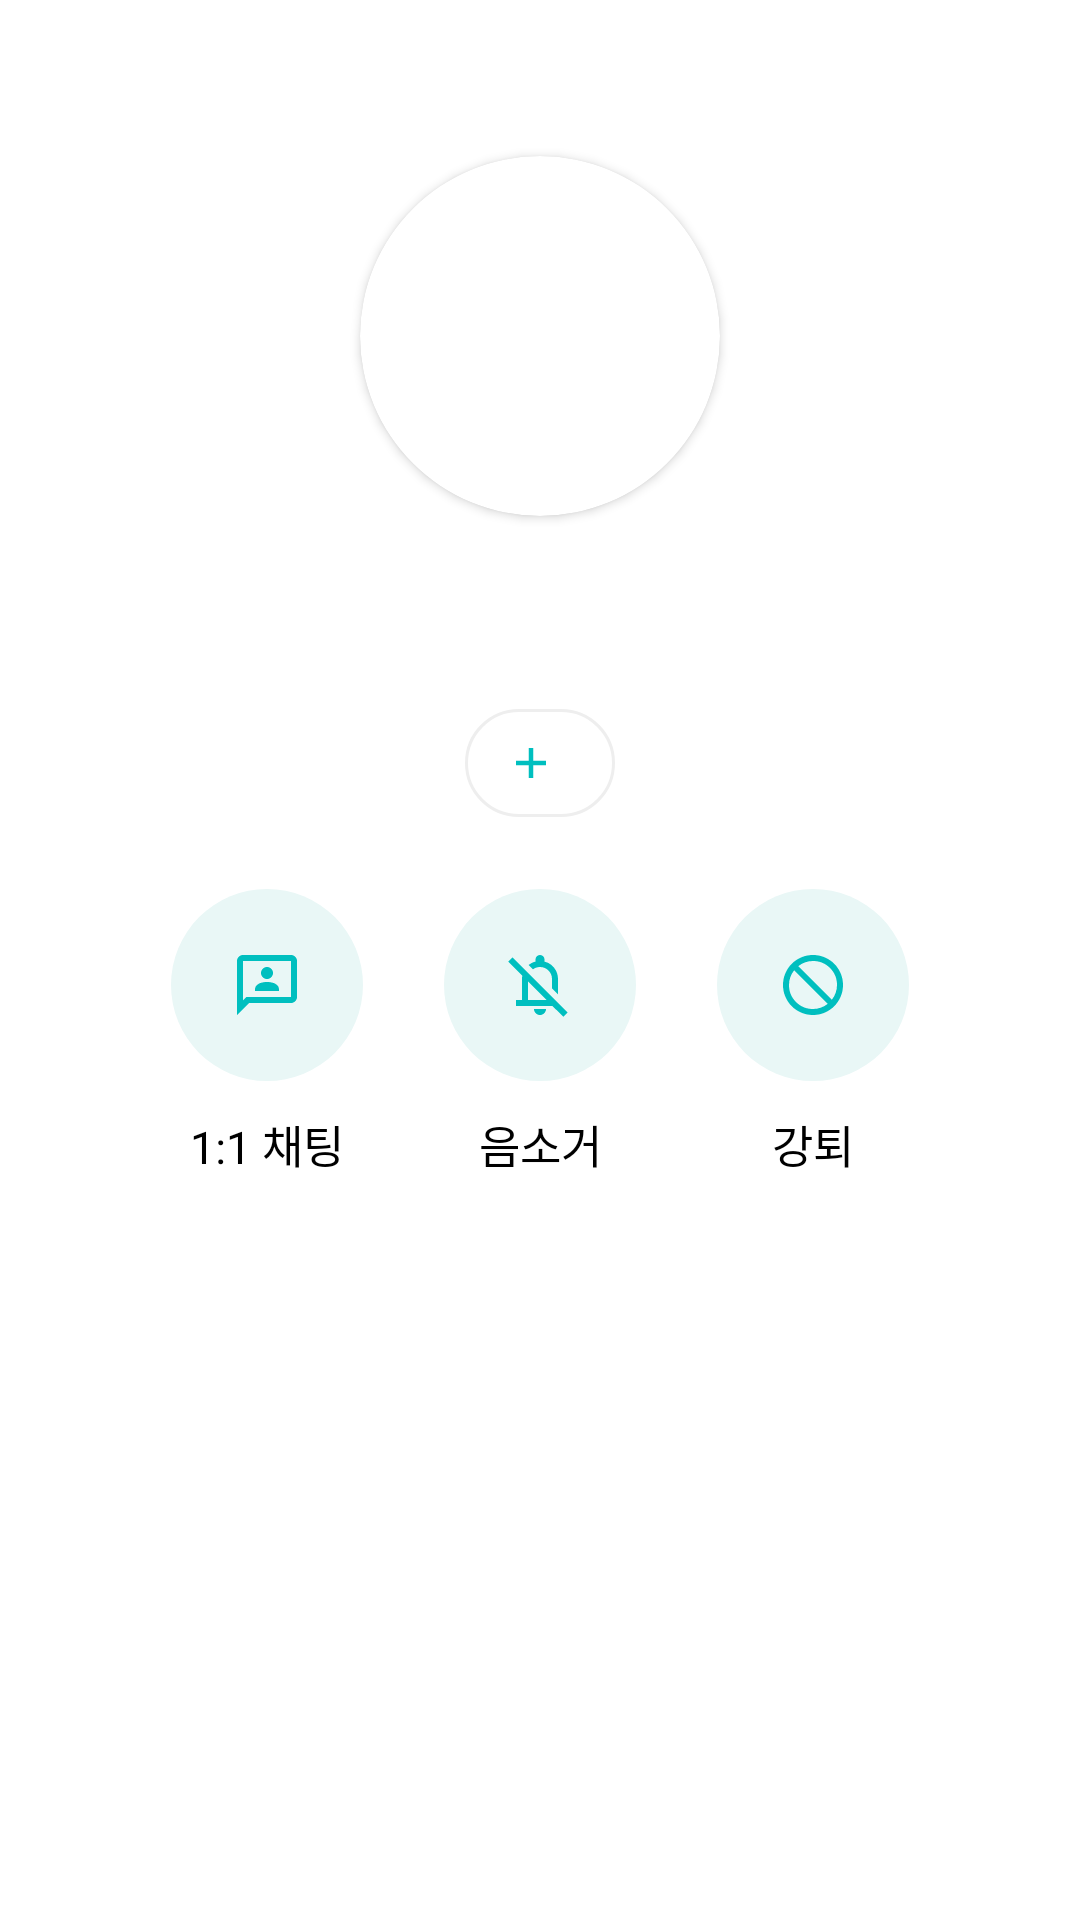

Icon bounding boxes for this 1080 × 1920 phone screenshot, format (x1, y1, x2, y2):
add: (516, 748, 546, 778)
block off: (717, 889, 909, 1081)
